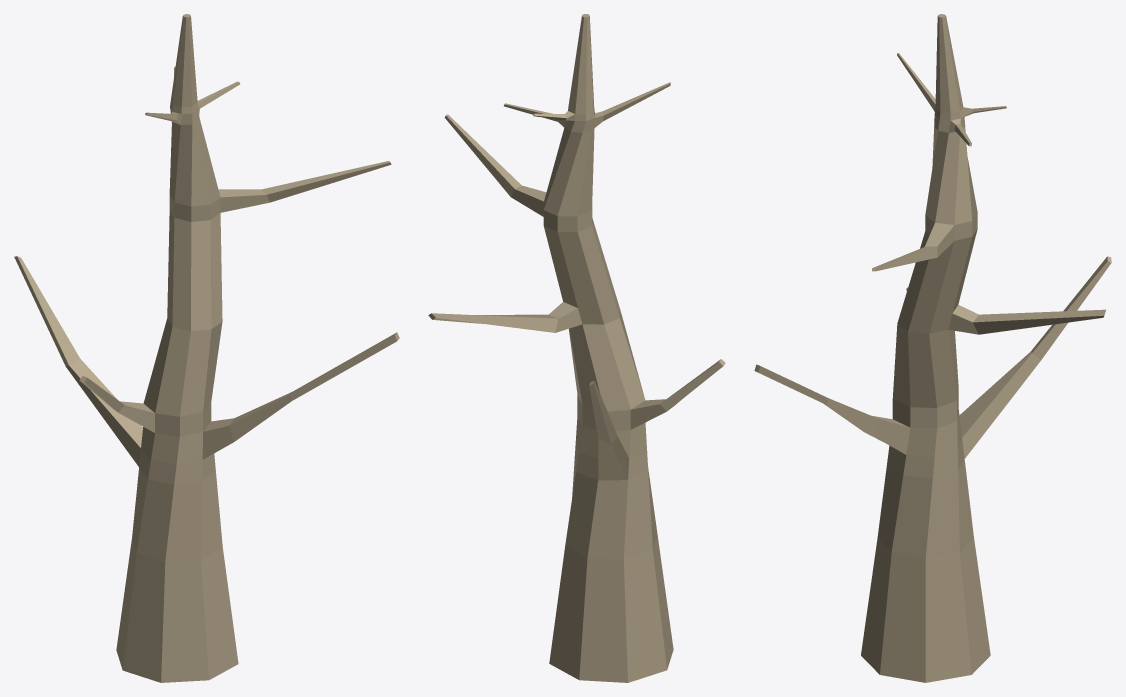
The model's file is Tree1 1.fbx.
The picture shows the model from 3 angles, left to right: view 1: azimuth 30°, elevation 25°; view 2: azimuth 150°, elevation 25°; view 3: azimuth 270°, elevation 25°; orthographic projection. The views are drawn at different scales.
Visible parts, largest first — view 1: Cylinder; view 2: Cylinder; view 3: Cylinder.
Part boxes in pixels (box(x1,y1,x2,y2)): Cylinder: box(14, 14, 399, 682); Cylinder: box(428, 14, 725, 682); Cylinder: box(754, 14, 1111, 682).
Size of the model in its own units: 534 by 1101 by 550.
